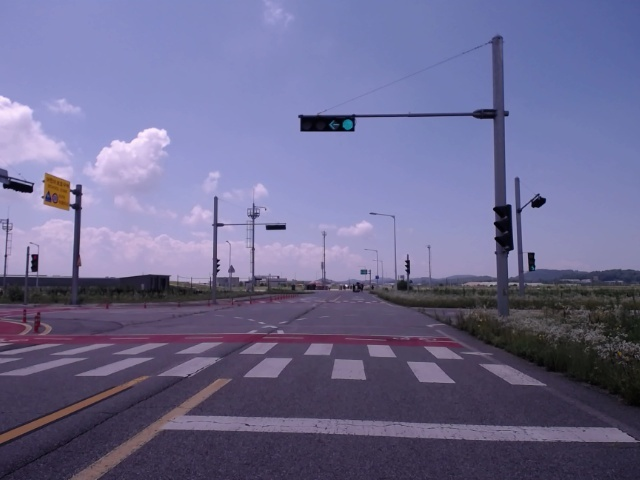all_green_4: (302, 117, 352, 130)
